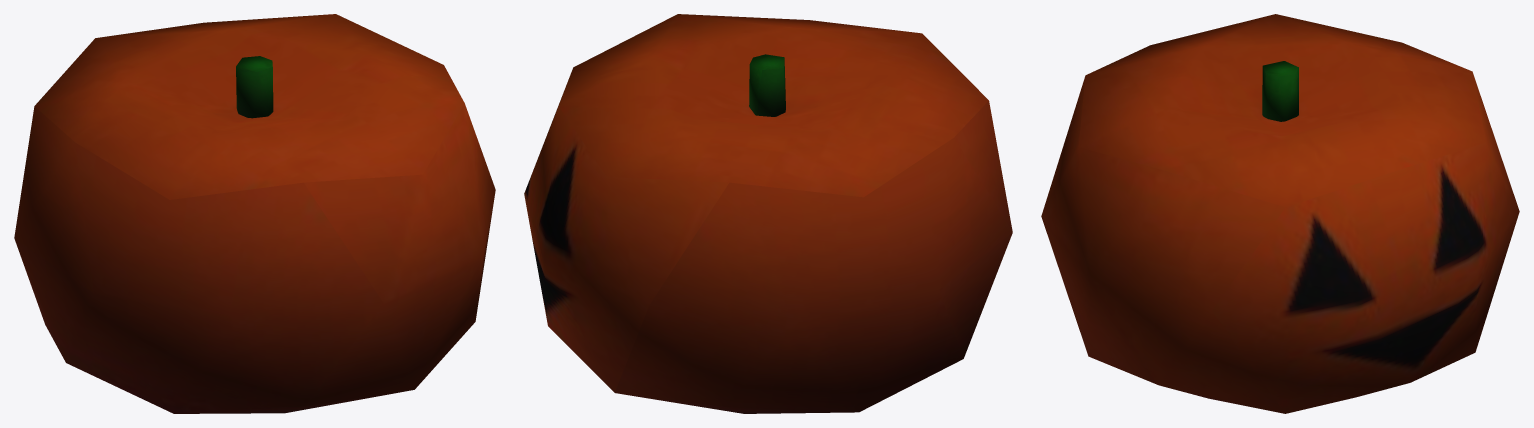
File: head.dae
3 renders of one model, left to right at view 1: azimuth 30°, elevation 25°; view 2: azimuth 150°, elevation 25°; view 3: azimuth 270°, elevation 25°, orthographic. The views are drawn at different scales.
Visible parts, largest first — view 1: Icosphere; view 2: Icosphere; view 3: Icosphere.
Boxes of the visible parts, x1,y1,x2,y2 form: Icosphere: (14, 14, 495, 413); Icosphere: (524, 14, 1012, 413); Icosphere: (1041, 14, 1519, 413).
Size of the model in its own units: 0.2114 by 0.2206 by 0.1491.
Materials: 1 (1 with a texture image).
